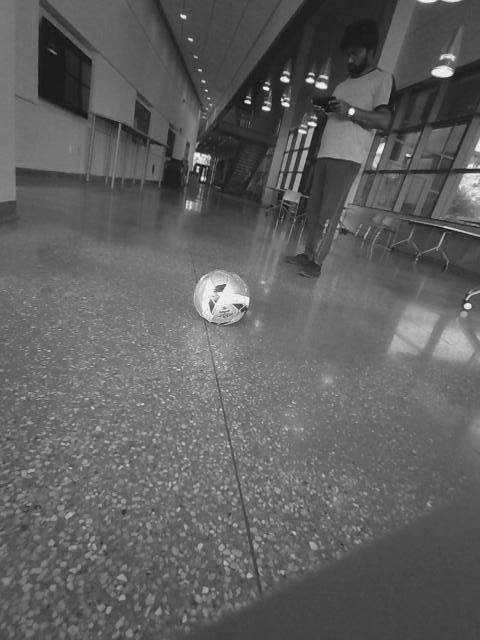ball: (191, 265, 255, 328)
